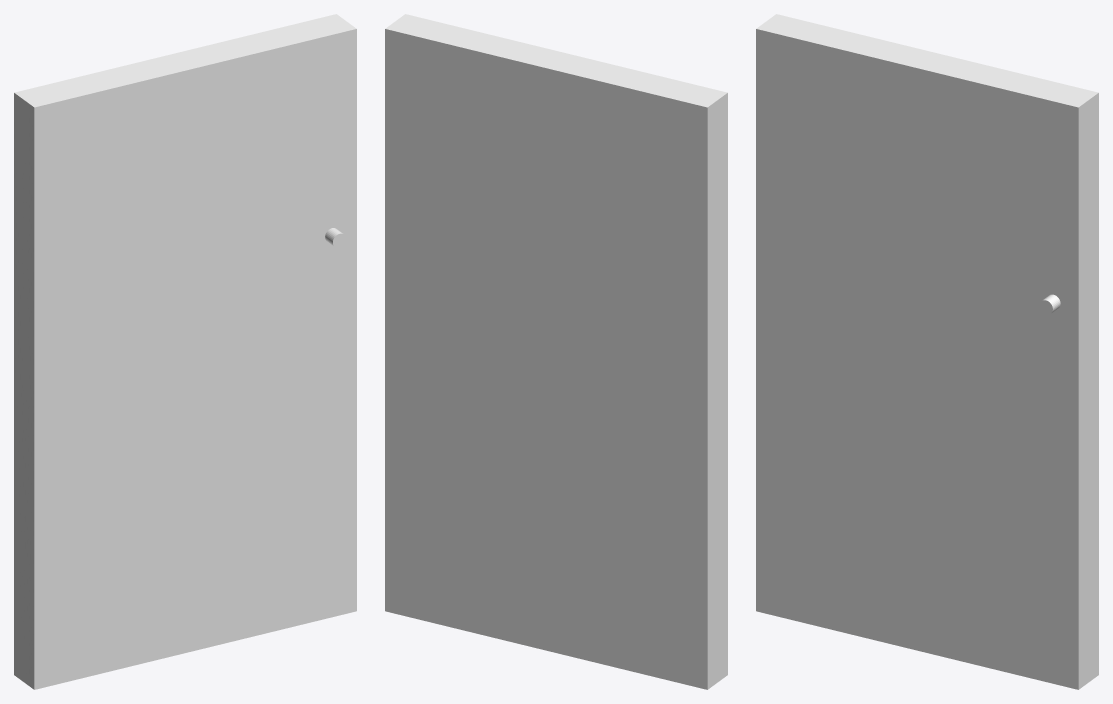
File: Puerta.fbx
The picture shows the model from 3 angles, left to right: view 1: azimuth 30°, elevation 25°; view 2: azimuth 150°, elevation 25°; view 3: azimuth 330°, elevation 25°; orthographic projection.
Visible parts, largest first — view 1: Puerta; view 2: Puerta; view 3: Puerta.
Boxes of the visible parts, x1,y1,x2,y2 form: Puerta: (14,14,356,689); Puerta: (385,14,727,689); Puerta: (756,14,1098,689).
Bounding box in the file's own units: 396 × 684 × 59.55.
